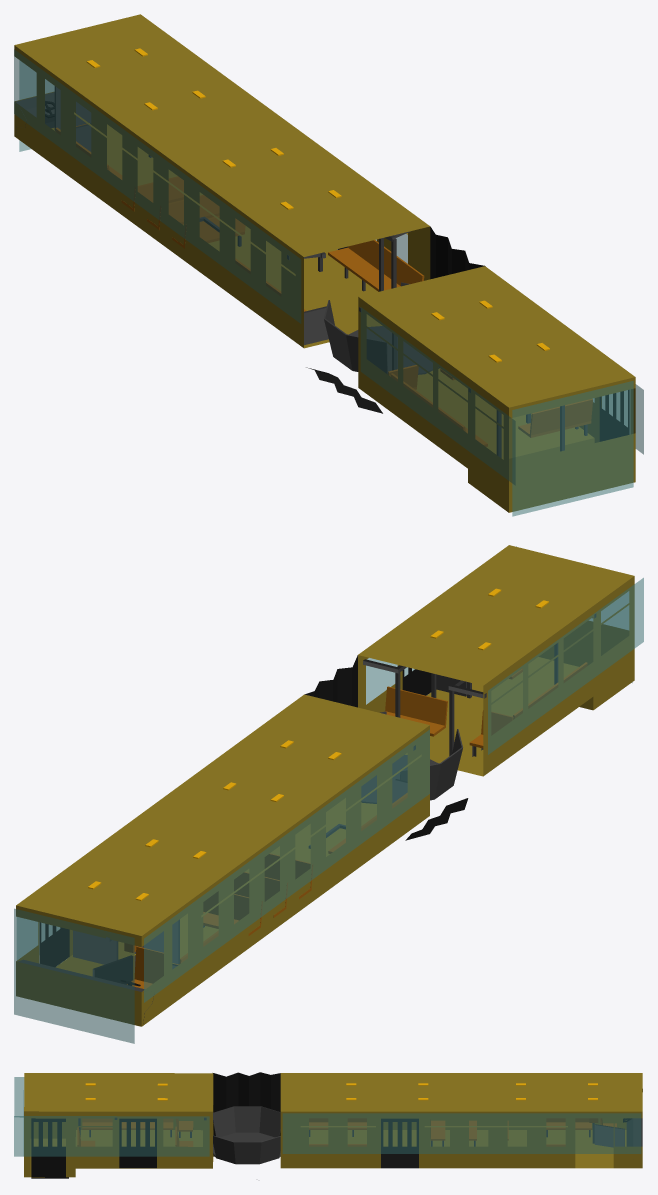
File: Avtobus.FBX
The picture shows the model from 3 angles, top to bottom: view 1: azimuth 30°, elevation 25°; view 2: azimuth 150°, elevation 25°; view 3: azimuth 270°, elevation 25°; orthographic projection. The views are drawn at different scales.
Visible parts, largest first — view 1: PrvDel, VtorDel, Plane_002; view 2: PrvDel, VtorDel, Plane_002; view 3: PrvDel, VtorDel, Plane_002.
Part boxes in pixels (<box>): PrvDel: <box>14,14,430,348</box>; VtorDel: <box>358,266,643,516</box>; Plane_002: <box>306,226,485,413</box>; PrvDel: <box>14,694,429,1043</box>; VtorDel: <box>358,545,643,776</box>; Plane_002: <box>304,655,468,840</box>; PrvDel: <box>280,1073,642,1168</box>; VtorDel: <box>14,1073,213,1178</box>; Plane_002: <box>213,1072,280,1164</box>.
Bounding box in the file's own units: 713 × 652 × 4818.
